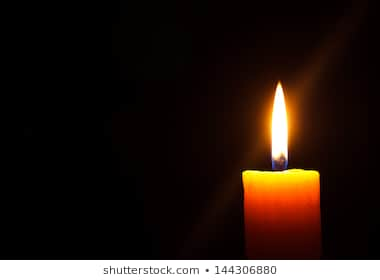Fire: (269, 80, 291, 163)
